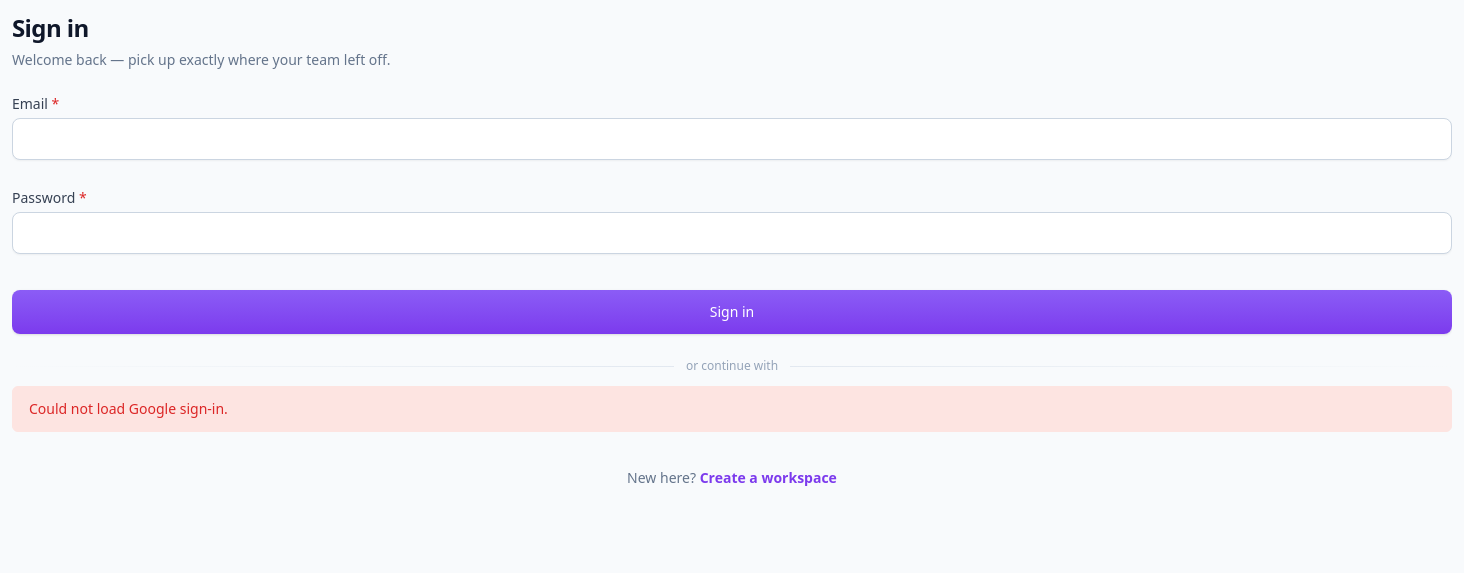
Test: Login page (UC-01 — generic errors, input preserved) › renders the distinct 423 lockout state
In the field labelled "Email *": [732, 139] box [12, 118, 1452, 160], type "sara@example.com"
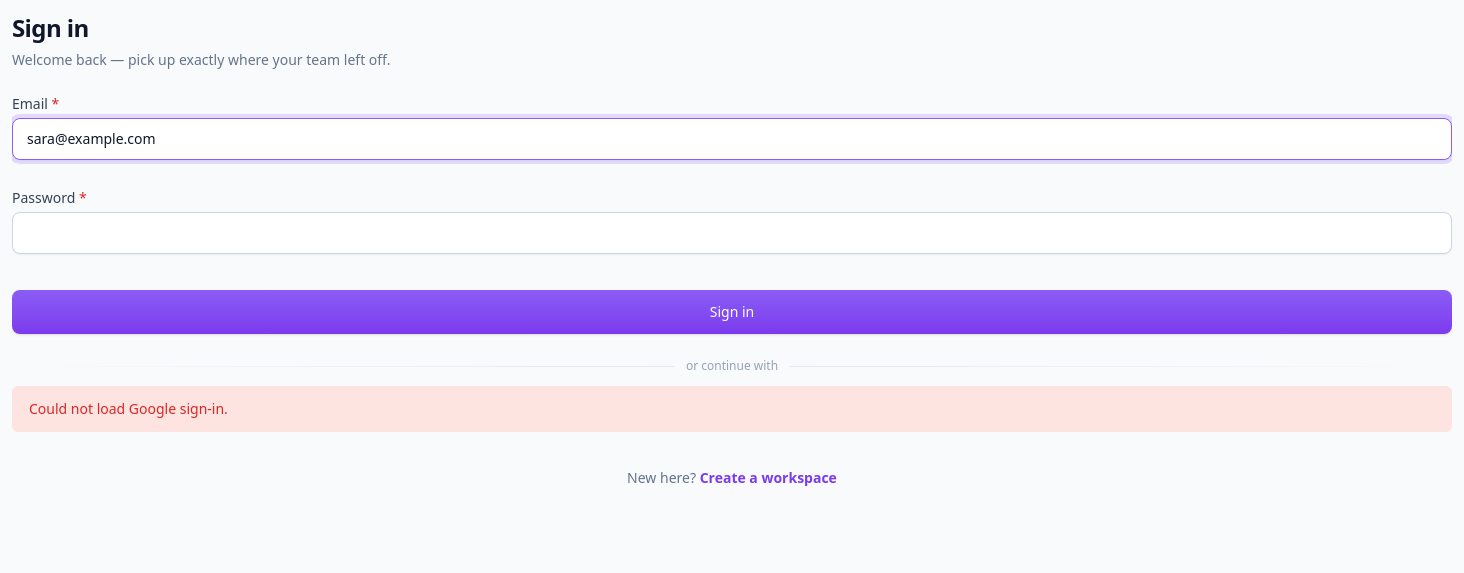
In the password field labelled "Password *": [732, 233] box [12, 212, 1452, 254], type "whatever-pw"
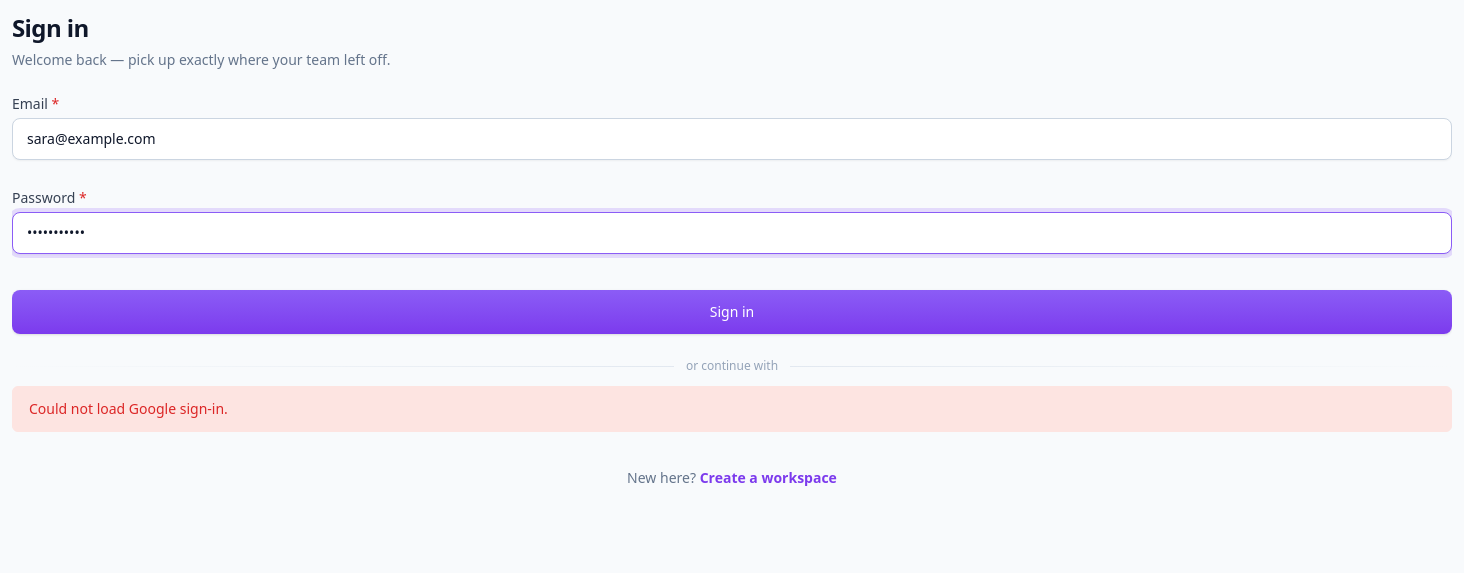
Click the button "Sign in": [732, 312] box [12, 290, 1452, 334]
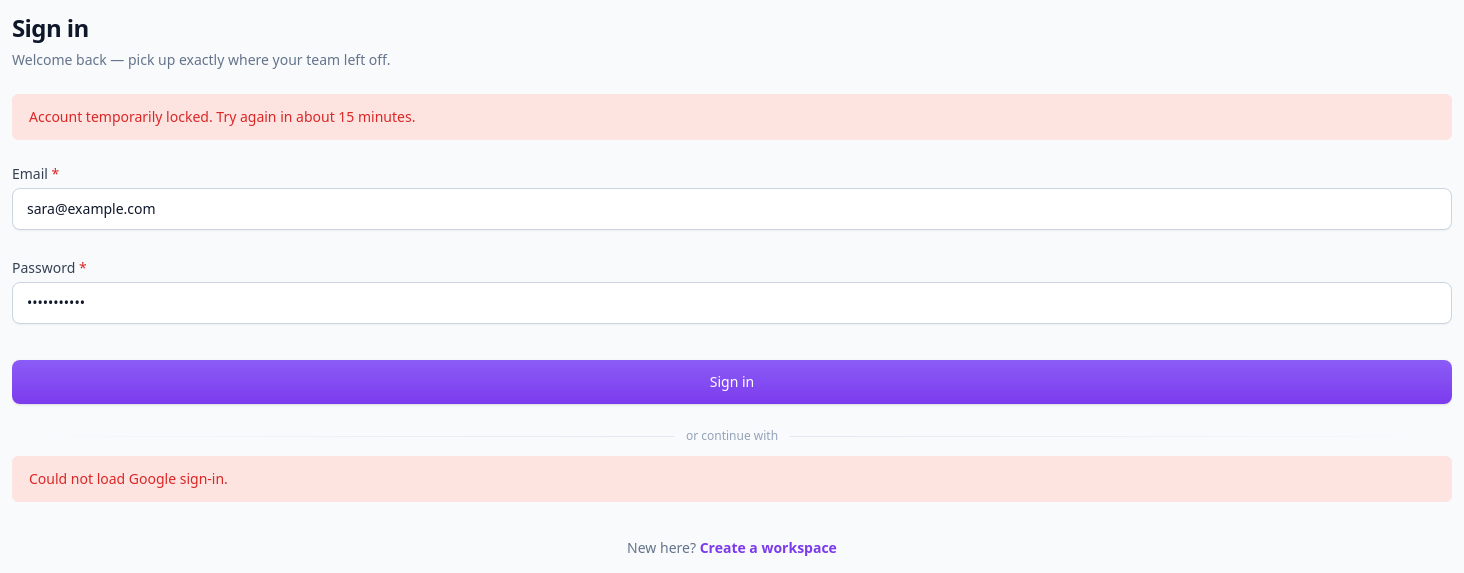
Now the text "Account temporarily locked. Try again in about 15 minutes." is shown, box [29, 107, 415, 127]
